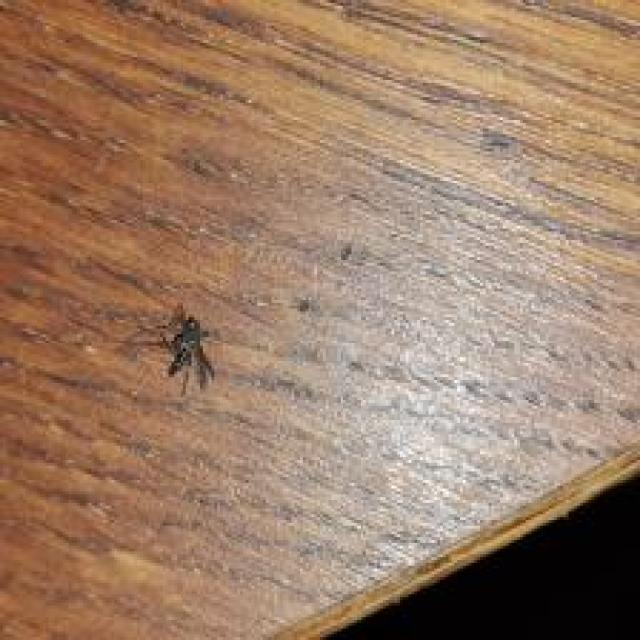Aedes albopictus: (157, 301, 217, 396)
